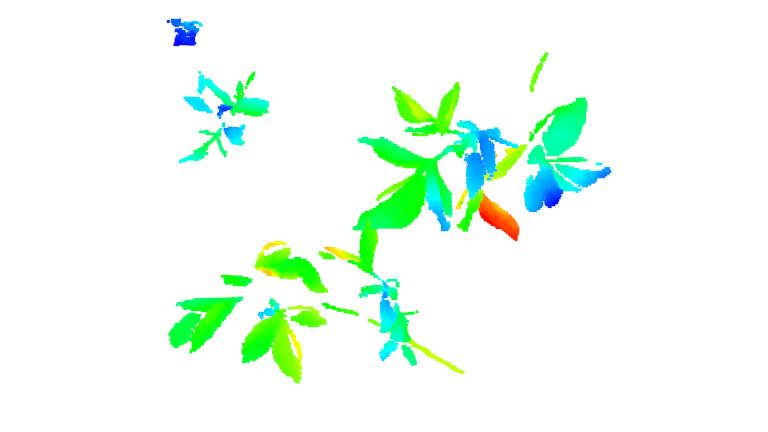mungbean: (165, 238, 468, 383), (347, 79, 614, 240), (171, 67, 268, 169)
